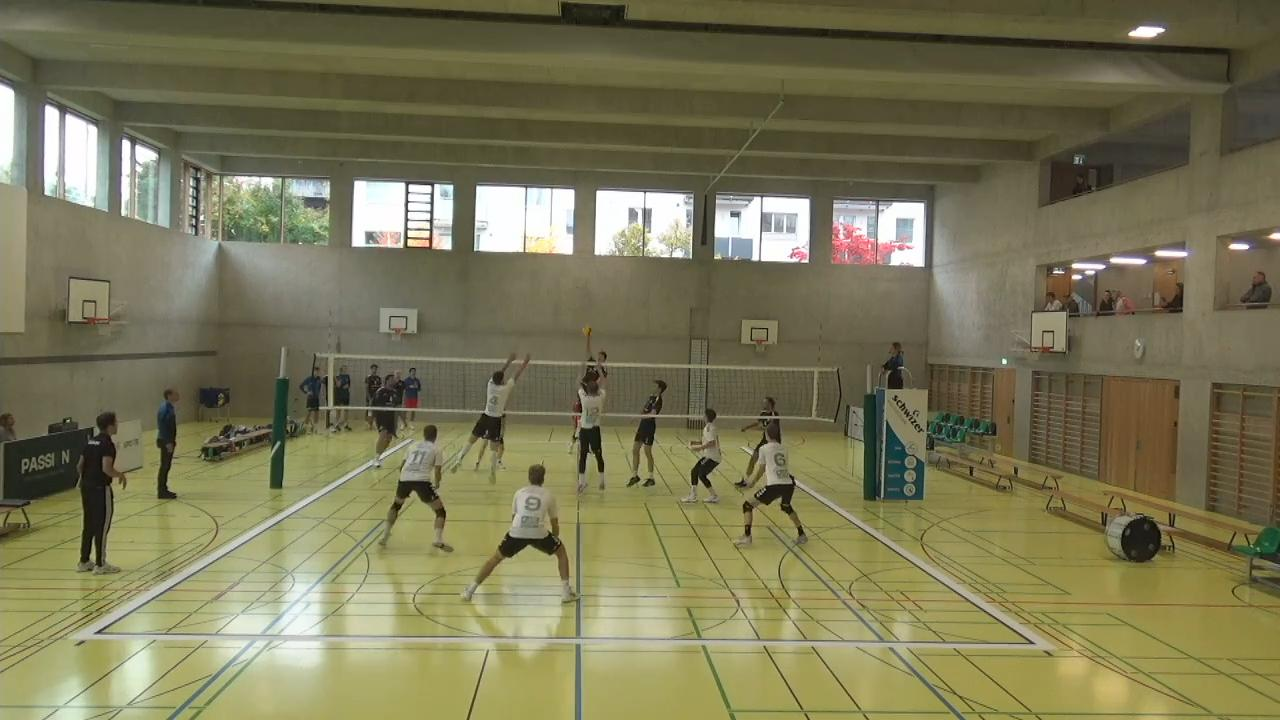attacco: (576, 341, 610, 381)
muro: (466, 345, 530, 477), (571, 344, 613, 492)
